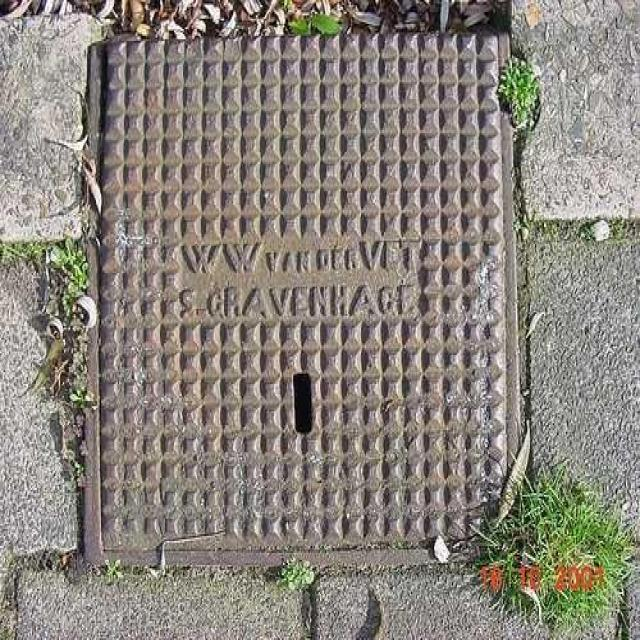manhole: (78, 26, 527, 565)
